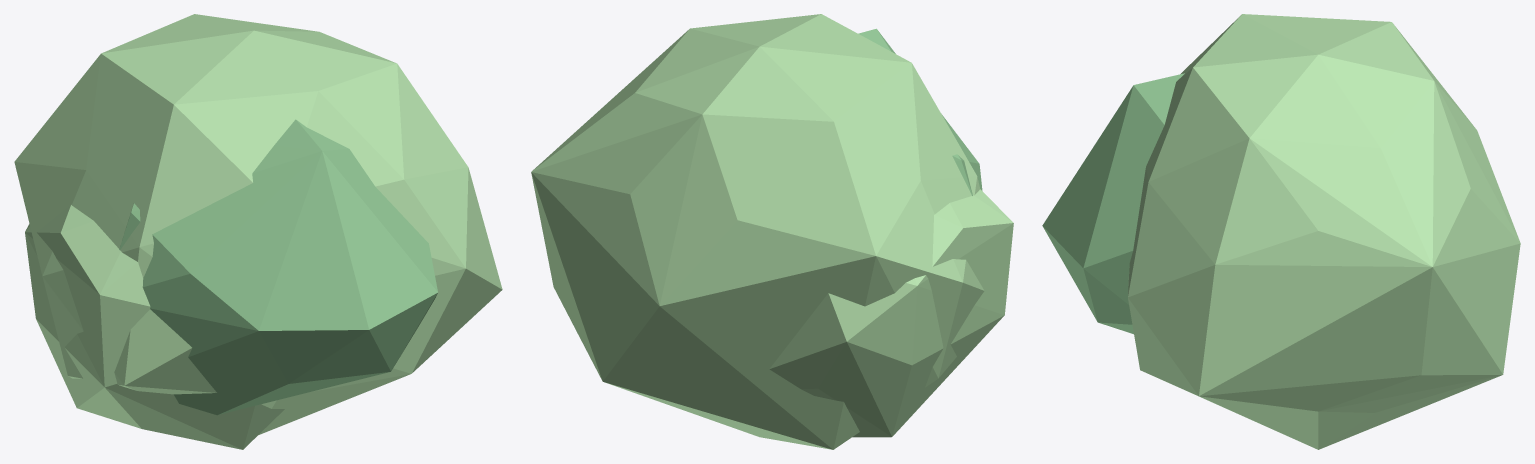
Rendered from bush_a.glb.
3 renders of one model, left to right at view 1: azimuth 30°, elevation 25°; view 2: azimuth 150°, elevation 25°; view 3: azimuth 270°, elevation 25°, orthographic. The views are drawn at different scales.
Parts seen in each view (by area): view 1: root_m2, root_m0, root_m1; view 2: root_m2, root_m1, root_m0; view 3: root_m2, root_m0.
Boxes of the visible parts, x1=… form: root_m2: x1=14, y1=14, x2=502, y2=434; root_m0: x1=119, y1=119, x2=437, y2=415; root_m1: x1=25, y1=205, x2=284, y2=449; root_m2: x1=531, y1=14, x2=984, y2=449; root_m1: x1=769, y1=189, x2=1013, y2=437; root_m0: x1=858, y1=28, x2=982, y2=195; root_m2: x1=1128, y1=14, x2=1520, y2=449; root_m0: x1=1042, y1=73, x2=1184, y2=334.
Size of the model in its own units: 0.7164 by 0.6979 by 0.7654.
